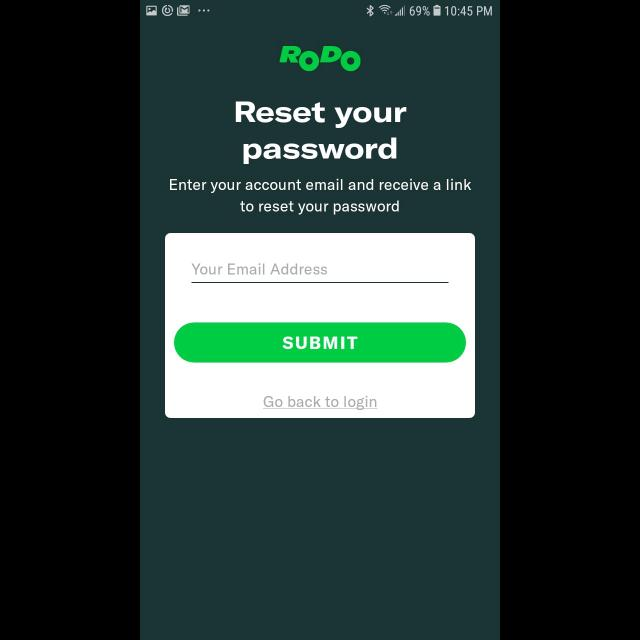image: (280, 46, 360, 72)
input: (192, 263, 448, 283)
text: (170, 178, 472, 216), (236, 102, 407, 164), (192, 263, 328, 275), (262, 396, 378, 410)
textbutton: (174, 323, 466, 363)
uppertaskbar: (140, 1, 500, 18)
